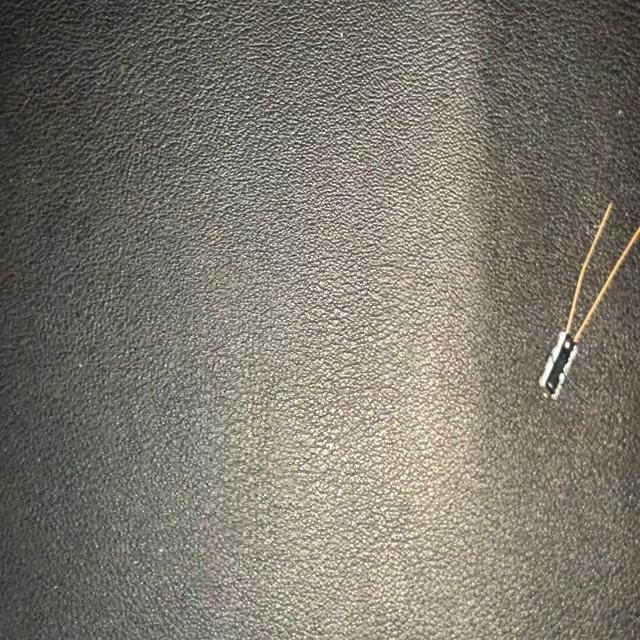capacitor: (536, 196, 640, 406)
